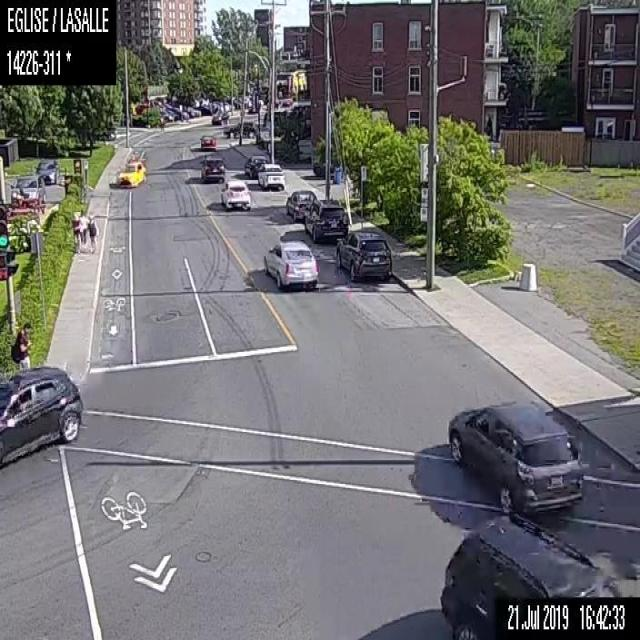pedestrian: (9, 320, 33, 369), (76, 208, 88, 252), (69, 211, 80, 252), (88, 208, 97, 251), (158, 114, 164, 134)
vehicle: (439, 505, 625, 639), (447, 396, 585, 514), (0, 364, 84, 471), (333, 227, 392, 283), (262, 238, 319, 290), (304, 196, 351, 239), (8, 173, 47, 204), (219, 179, 251, 212), (285, 190, 320, 219), (115, 157, 146, 188), (256, 161, 286, 191), (33, 156, 59, 184), (200, 153, 226, 180), (222, 118, 256, 138), (243, 154, 267, 177), (210, 110, 230, 124), (200, 134, 217, 150)
